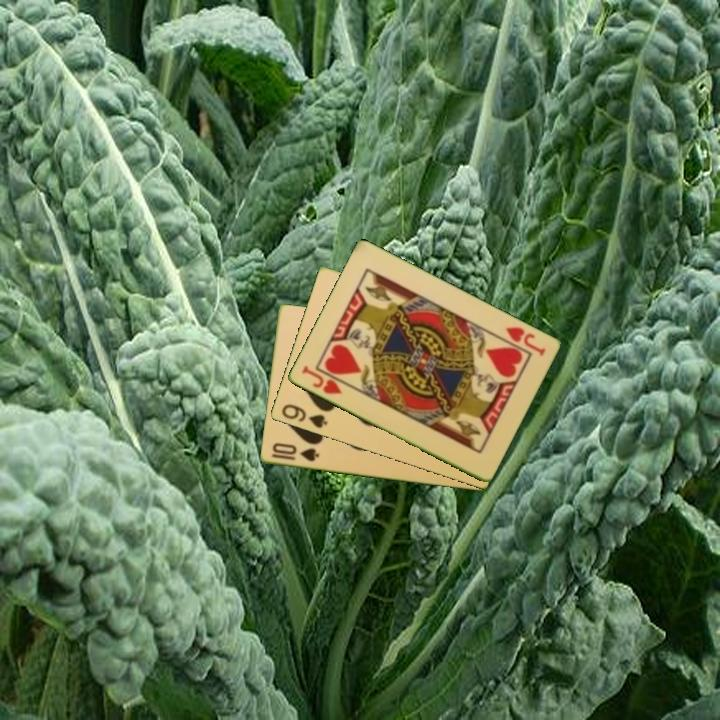10s: (268, 440, 322, 465)
9s: (278, 401, 330, 431)
Jh: (502, 323, 548, 359), (298, 362, 345, 397)
